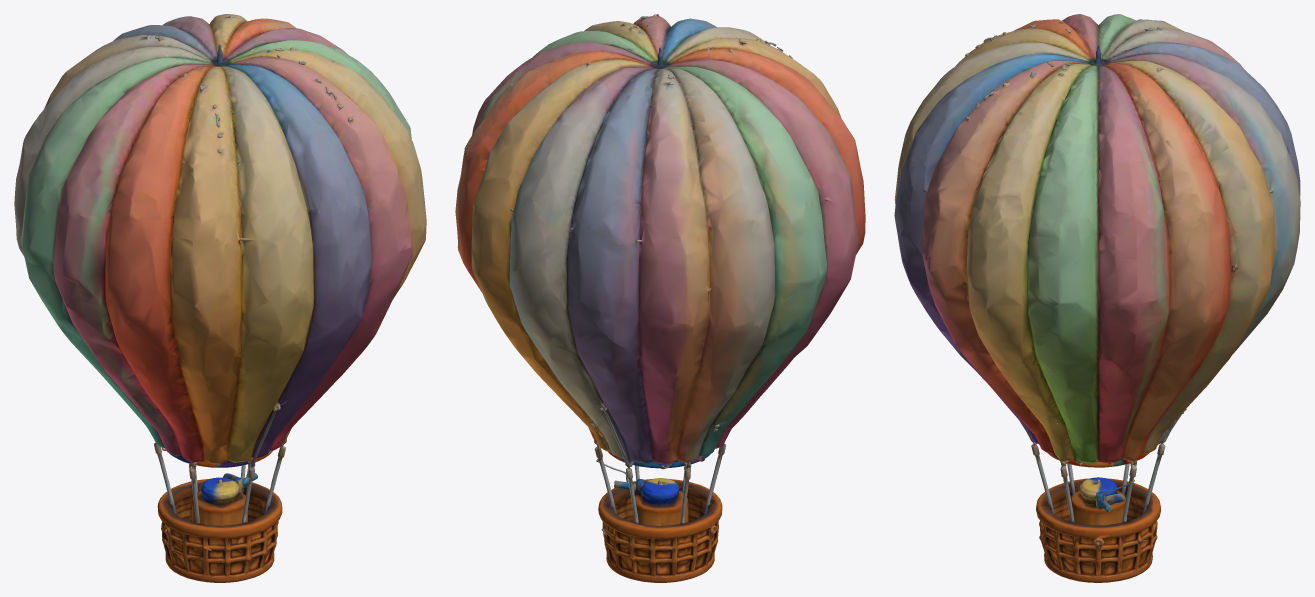
The model's file is balloon.glb.
The picture shows the model from 3 angles, left to right: view 1: azimuth 30°, elevation 25°; view 2: azimuth 150°, elevation 25°; view 3: azimuth 270°, elevation 25°; orthographic projection.
Parts seen in each view (by area): view 1: tripo_node_adab4169-ff39-4a8a-942f-0733c4884aae; view 2: tripo_node_adab4169-ff39-4a8a-942f-0733c4884aae; view 3: tripo_node_adab4169-ff39-4a8a-942f-0733c4884aae.
Part boxes in pixels (bbox=[...]): tripo_node_adab4169-ff39-4a8a-942f-0733c4884aae: bbox=[14, 14, 426, 582]; tripo_node_adab4169-ff39-4a8a-942f-0733c4884aae: bbox=[455, 14, 865, 582]; tripo_node_adab4169-ff39-4a8a-942f-0733c4884aae: bbox=[894, 14, 1300, 582].
Bounding box in the file's own units: 0.7243 × 0.9998 × 0.7121.
Materials: 1 (1 with a texture image).
